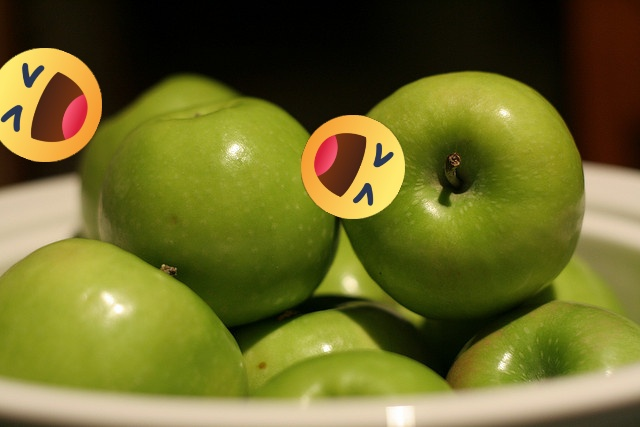haha: (0, 48, 102, 162), (301, 115, 405, 219)
